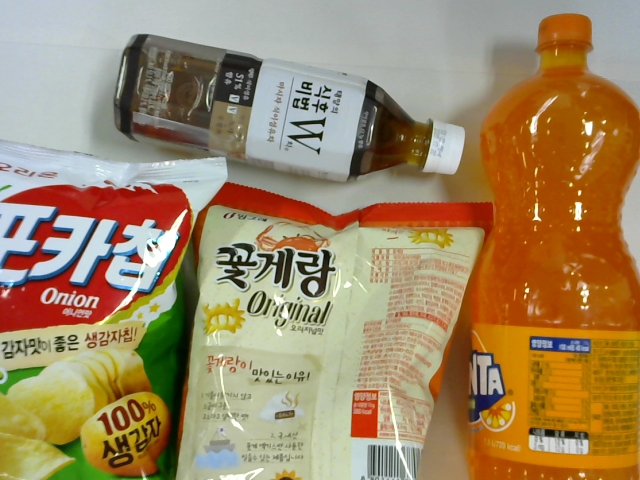Crabrang: (175, 178, 494, 480)
Hwanta_Orange_1.5L: (468, 14, 638, 479)
Pocachip_Onion: (1, 134, 229, 480)
Post-meal_recipe_W_tea_500ml: (114, 29, 465, 183)
